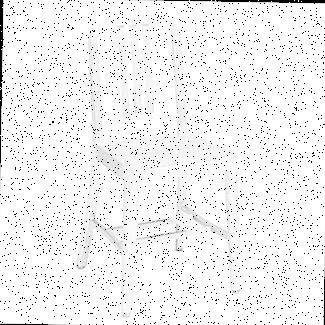Silla: (76, 22, 243, 313)
